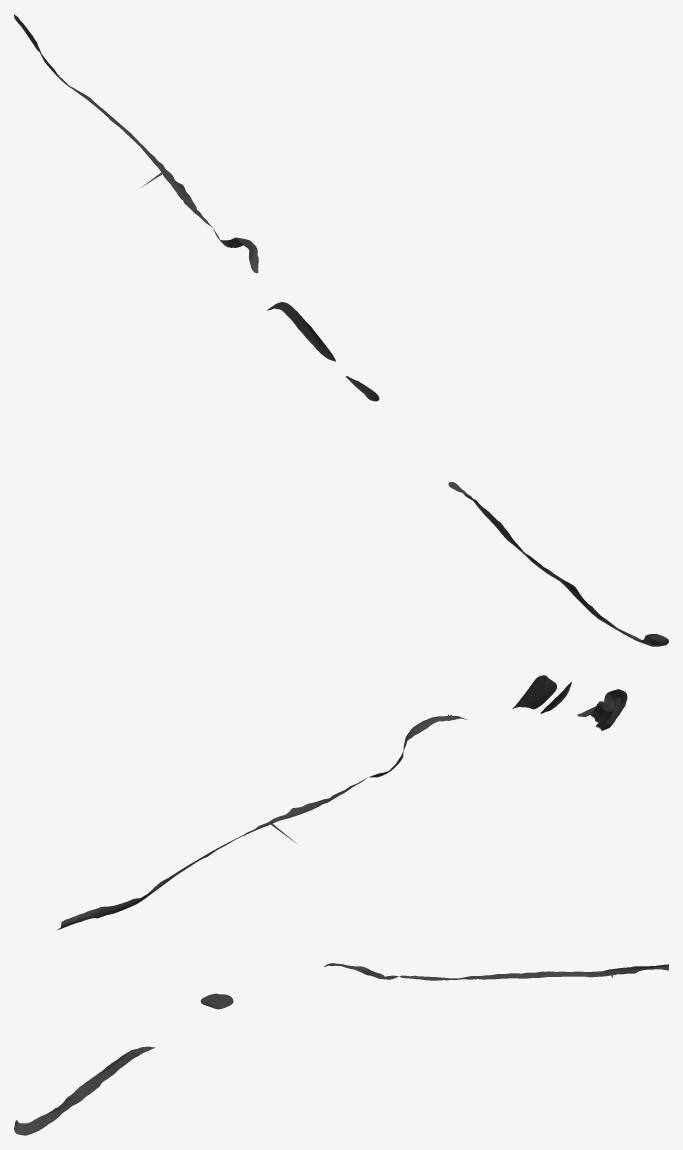
Rendered from nerve_median.glb.
3 renders of one model, top to bottom at view 1: azimuth 30°, elevation 25°; view 2: azimuth 150°, elevation 25°; view 3: azimuth 270°, elevation 25°, orthographic. The views are drawn at different scales.
Parts seen in each view (by area): view 1: nerve_median; view 2: nerve_median; view 3: nerve_median.
Part boxes in pixels (left/top/right/bottom): nerve_median: left=14, top=14, right=668, bottom=646; nerve_median: left=56, top=675, right=627, bottom=930; nerve_median: left=14, top=963, right=668, bottom=1135.
Size of the model in its own units: 0.094 by 0.1358 by 0.5519.
Materials: 1 (1 with a texture image).
